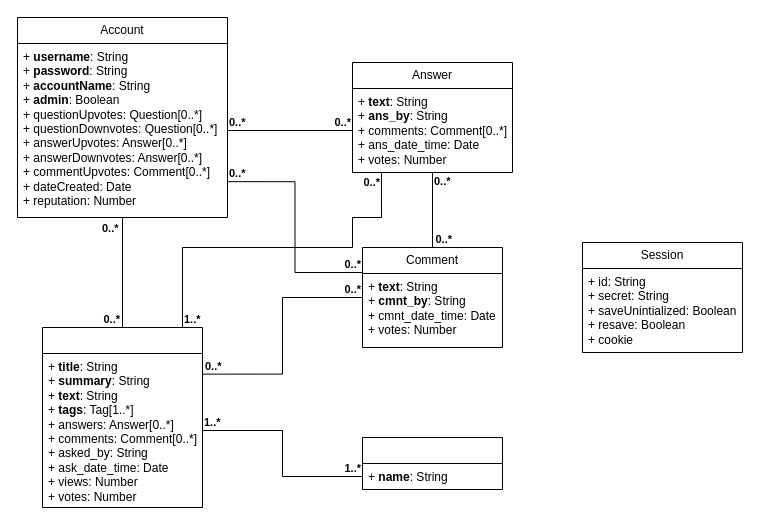
The diagram is 760 pixels wide and 528 high, and some of its shapes have lost their labels. The box of each missing label's shape, as (x1, y1, x2, y2) in pixels:
Question: (42, 326, 202, 508)
Tag: (362, 436, 502, 490)
